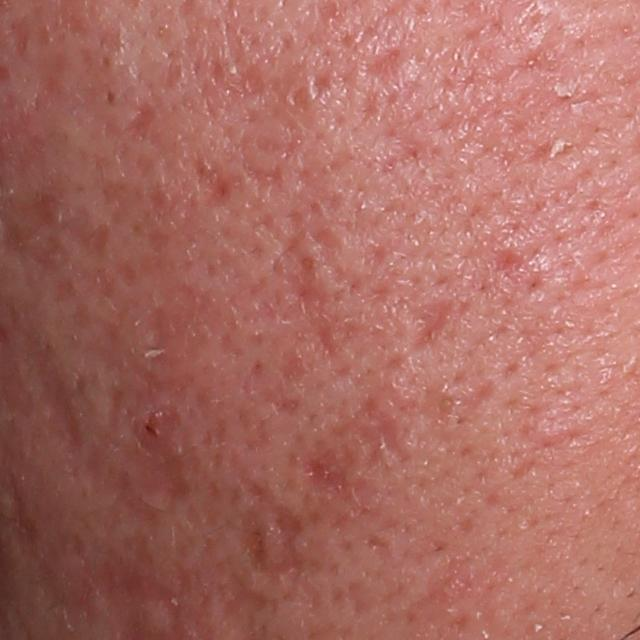atrophic_scar: (79, 267, 219, 506), (296, 359, 417, 533), (233, 467, 337, 608), (250, 281, 359, 381), (31, 344, 89, 454), (405, 296, 464, 359), (361, 39, 407, 102), (107, 92, 156, 148), (195, 172, 238, 214), (488, 245, 529, 284)
comedo: (101, 88, 119, 107)
